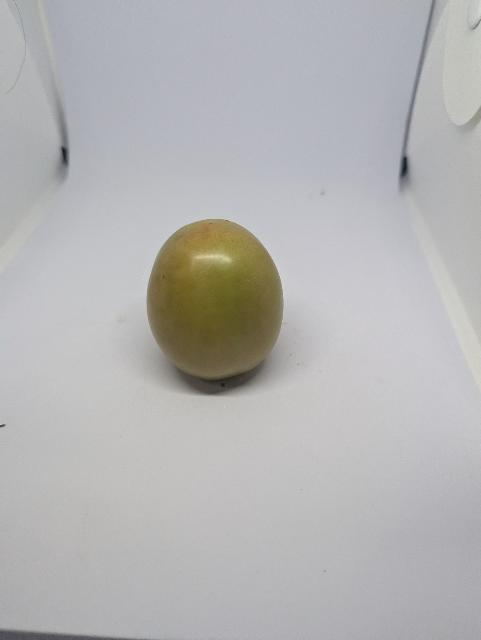breaker: (140, 216, 294, 386)
